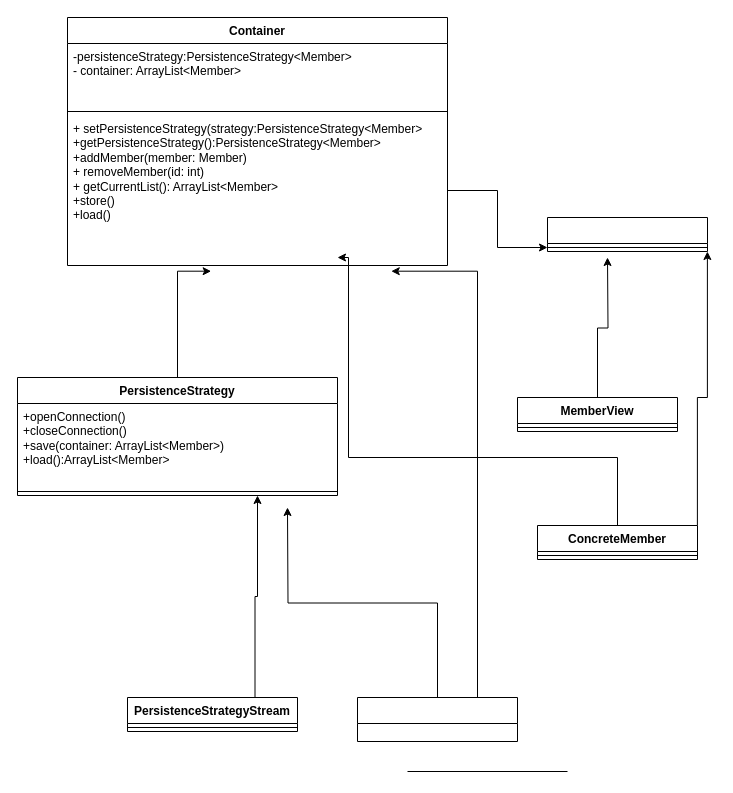
Image size: 733x793. Some labels were removed from this diagram. Here are the shapes that lost their labels. From the top down, the centre of each, then its label:
pixel 627 234: Client
pixel 437 719: PersistenceException
